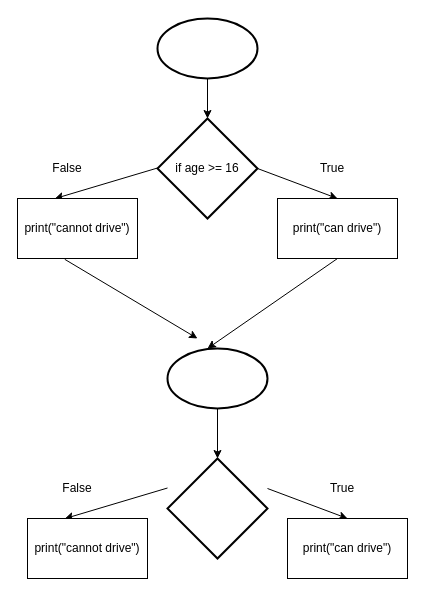
Some shapes in this 425 by 596 pixel diagram are drawn without their labels. Here are the shapes that lost their labels. From the top down, the box of each, then its label:
(156, 17, 258, 79): age = 16
(166, 347, 268, 409): sober = True
(166, 457, 268, 559): if sober
